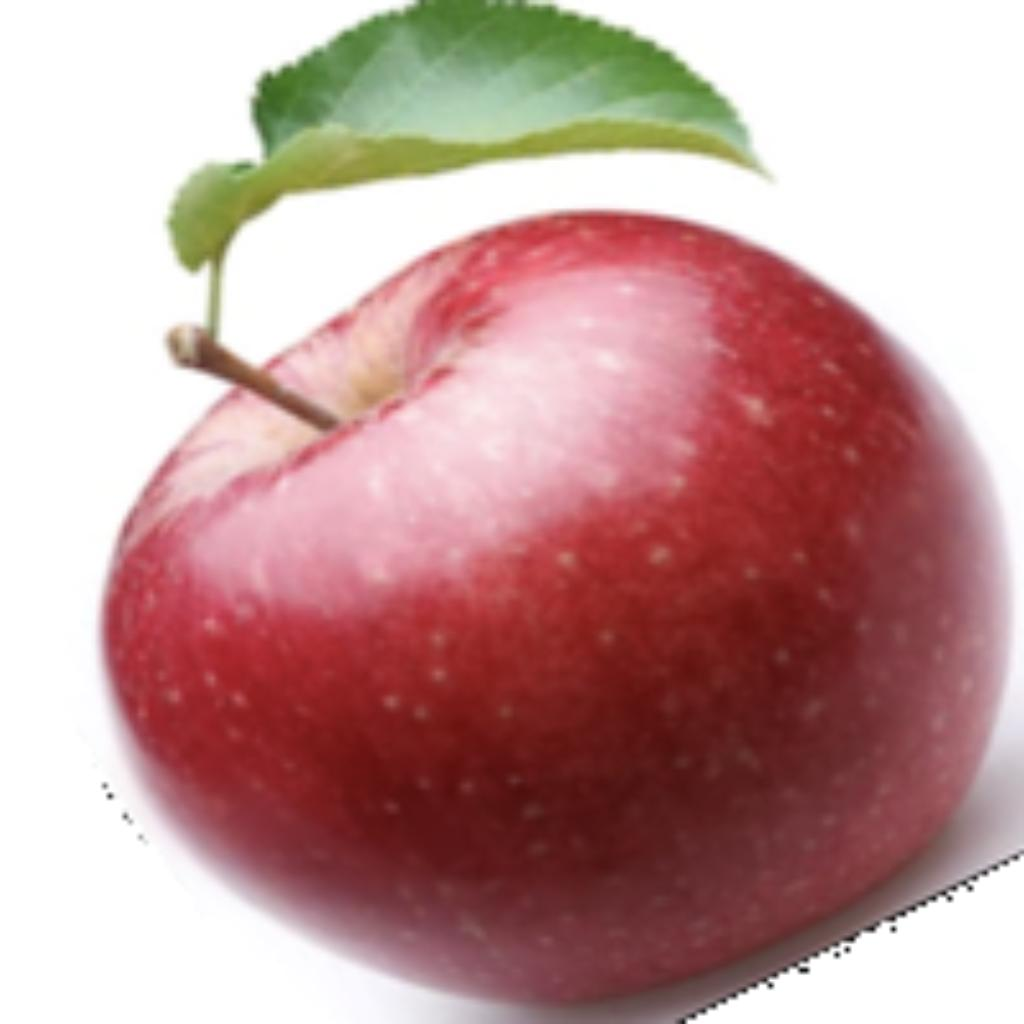apple: (87, 0, 1019, 1019)
